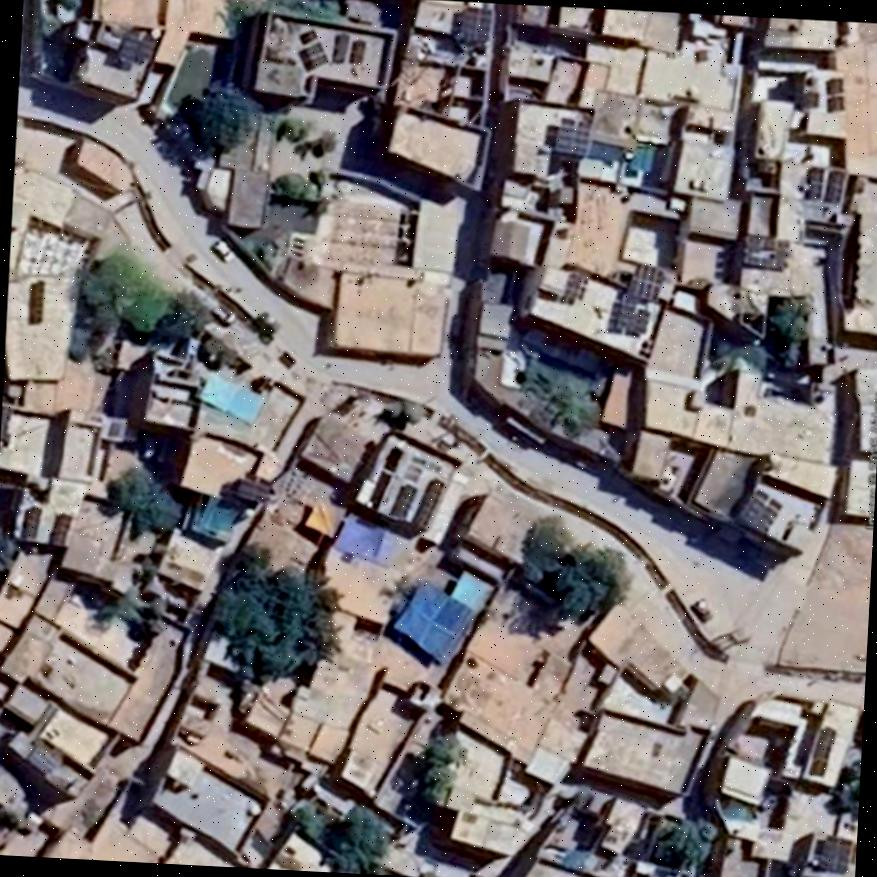Solarpanel: (740, 489, 780, 532), (409, 476, 441, 529), (629, 263, 663, 300), (818, 835, 850, 874), (617, 293, 647, 332), (461, 6, 490, 43), (557, 125, 591, 154), (388, 483, 415, 517), (827, 173, 843, 201)
